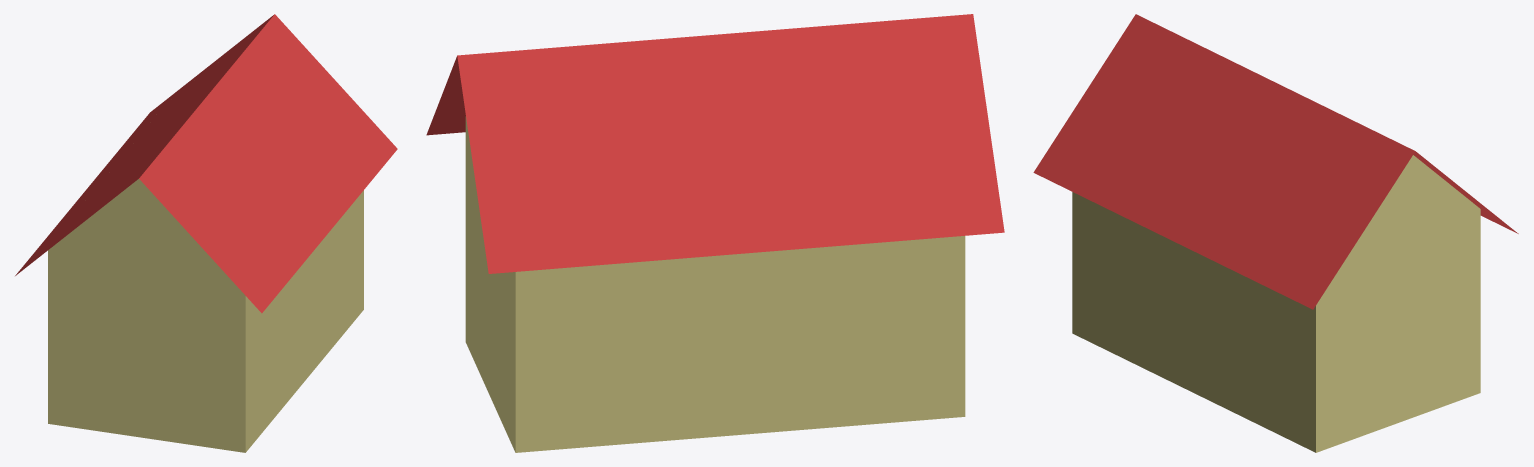
3 views of the same model, side by side, from view 1: azimuth 30°, elevation 25°; view 2: azimuth 150°, elevation 25°; view 3: azimuth 270°, elevation 25° (orthographic). The views are drawn at different scales.
Bounding box in the file's own units: 18.27 × 17.67 × 11.27.
